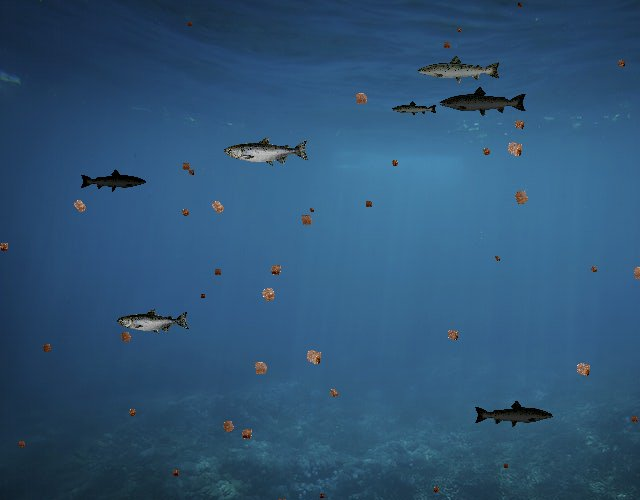Fish: (439, 85, 529, 118), (416, 54, 502, 85), (224, 136, 310, 167), (473, 399, 554, 428), (117, 309, 190, 335), (80, 168, 148, 193), (392, 100, 439, 117)
Pellet: (247, 355, 274, 382), (349, 86, 374, 111), (235, 423, 258, 445), (362, 197, 376, 211), (430, 483, 443, 496), (185, 166, 198, 179), (454, 24, 464, 34)
